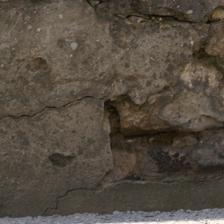Crack: (105, 102, 223, 185), (5, 91, 106, 125), (91, 7, 223, 33), (41, 188, 96, 214)
